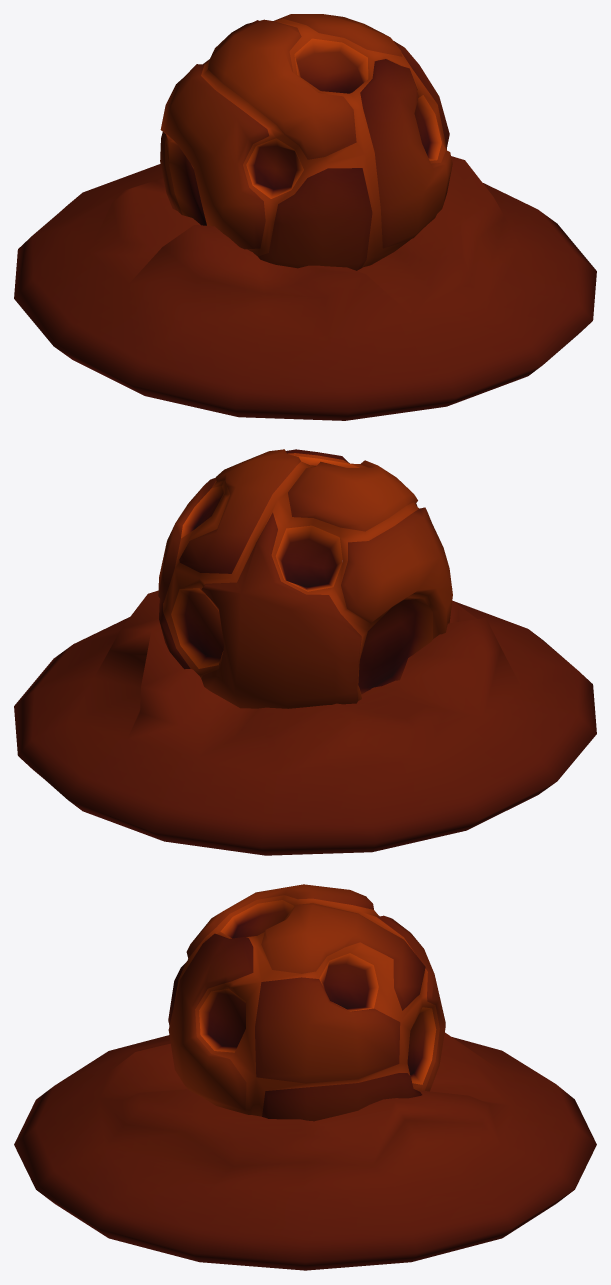
The model's file is Meteor.fbx.
The picture shows the model from 3 angles, top to bottom: view 1: azimuth 30°, elevation 25°; view 2: azimuth 150°, elevation 25°; view 3: azimuth 270°, elevation 25°; orthographic projection. The views are drawn at different scales.
Visible parts, largest first — view 1: GroundMeteor, Meteor; view 2: GroundMeteor, Meteor; view 3: GroundMeteor, Meteor.
Boxes of the visible parts, x1,y1,x2,y2 form: GroundMeteor: [14, 156, 596, 420]; Meteor: [160, 14, 452, 270]; GroundMeteor: [14, 590, 596, 855]; Meteor: [158, 449, 452, 708]; GroundMeteor: [14, 1032, 596, 1270]; Meteor: [168, 884, 445, 1121].
Size of the model in its own units: 791 by 459 by 830.
Materials: 1 (1 with a texture image).
